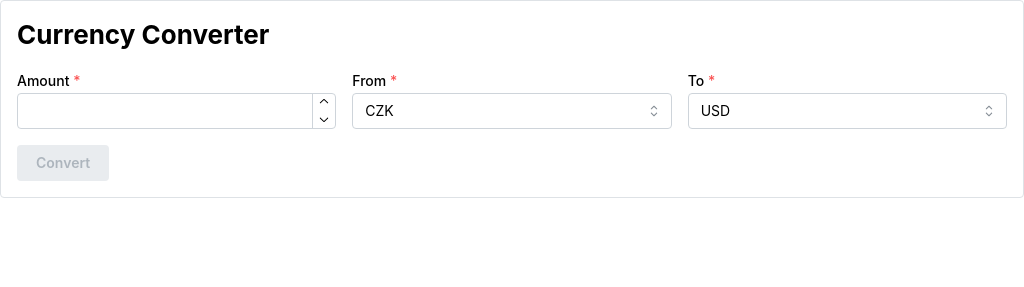
Scenario: CurrencyConverter › performs conversion from CZK to USD
Type "100" into the field labelled "Amount *".
click(177, 111); type("100")  # box [17,93,336,129]
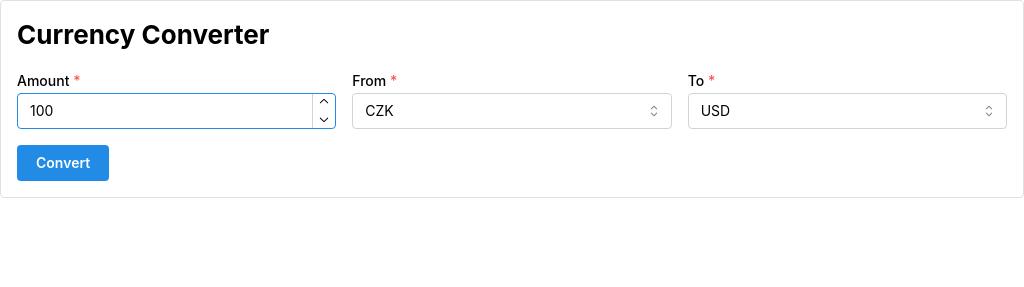
Click the button "Convert".
click(63, 163)  # box [17,145,109,181]
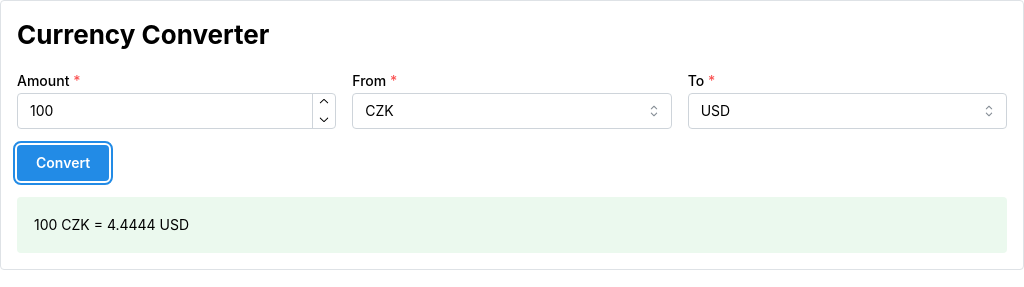
Now the text "100 CZK = 4.4444 USD" is shown, box [34,216,189,233]
